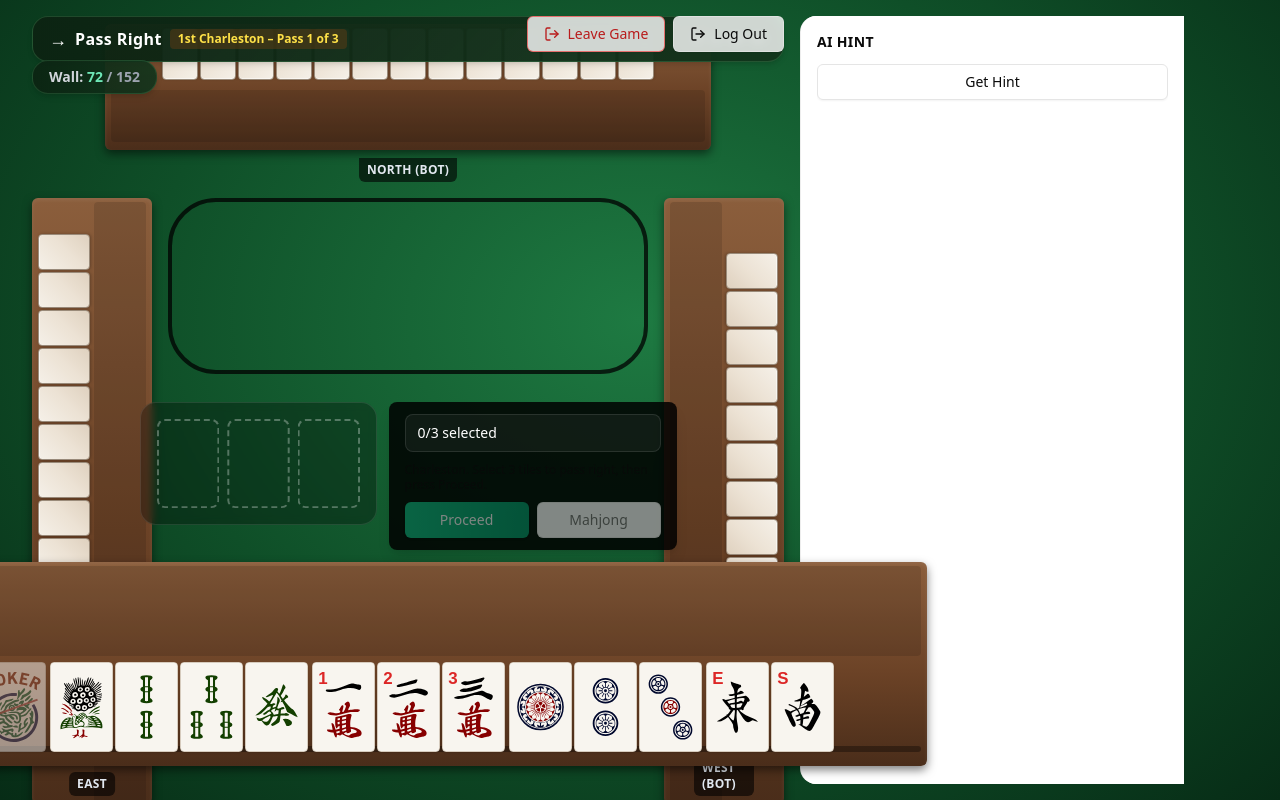
it: US-055: Right Rail Hint Flow (Integration) › keeps the loaded hint coherent when transitioning from Charleston into Playing
Click the button with test id "get-hint-button".
click(992, 82)  # box [817,64,1168,100]
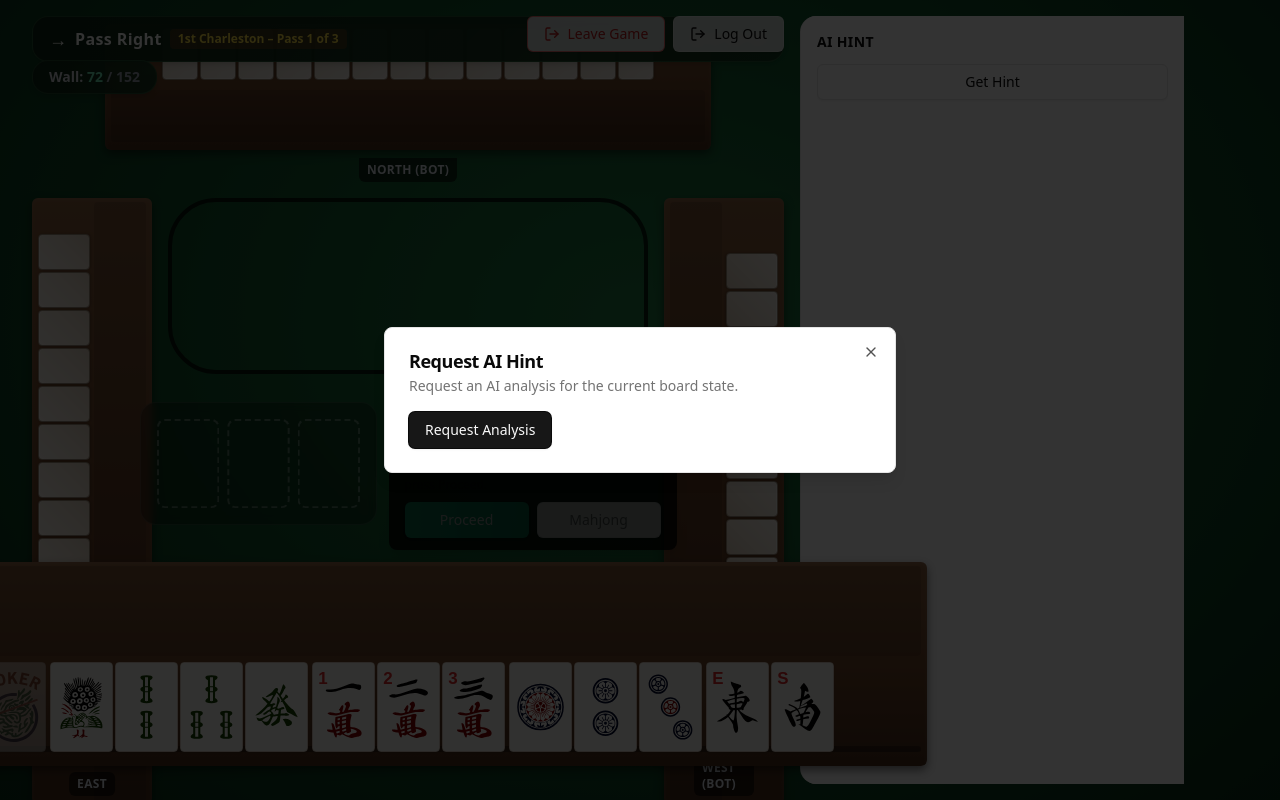
Click the button with test id "request-analysis-button".
click(480, 430)  # box [409,412,551,448]
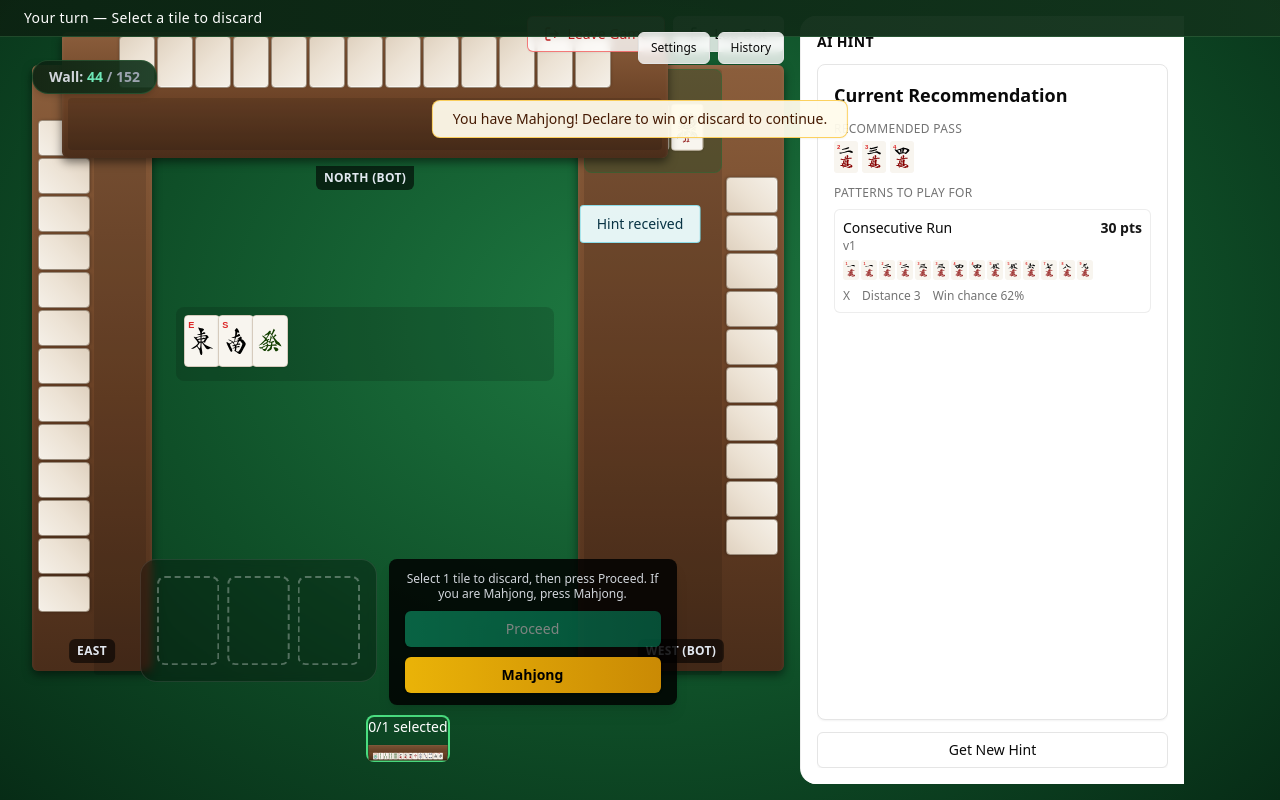
expect the element with test id "hint-charleston-pass-recommendations" is shown: met, box [834,120,962,173]
expect the element with test id "hint-panel" is shown: met, box [817,64,1168,720]
expect the button with test id "get-hint-button" is gone: met
